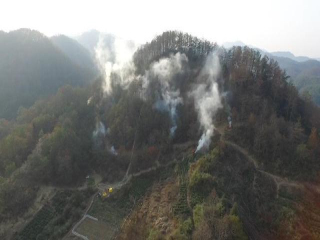smoke: (91, 30, 232, 156)
